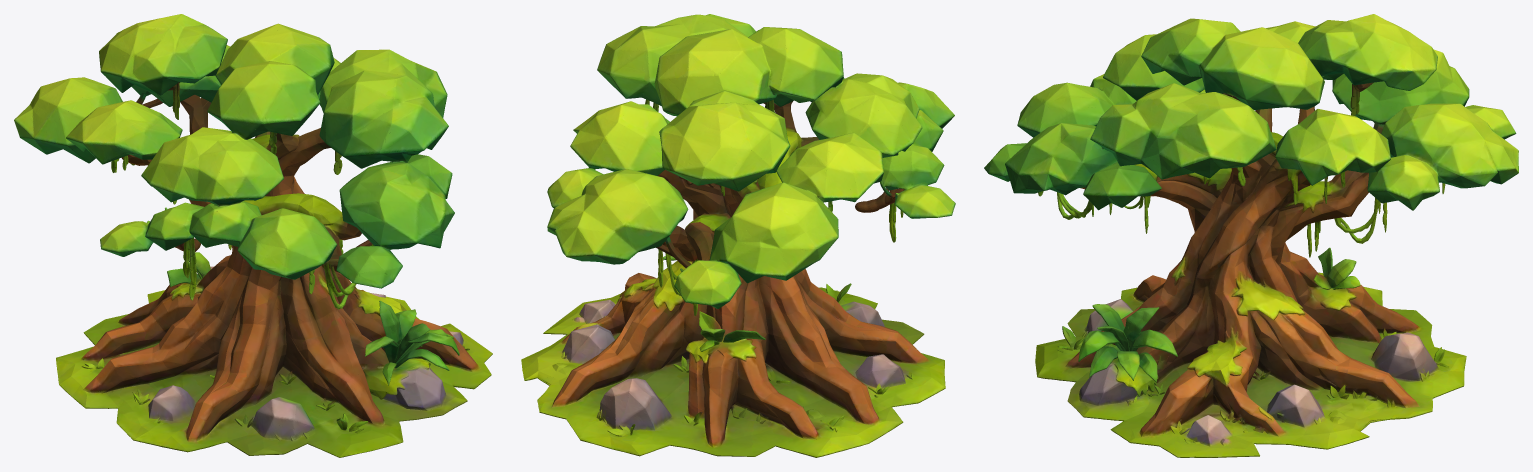
The model's file is KeepSakeHugeTreeGreen.glb.
3 views of the same model, side by side, from view 1: azimuth 30°, elevation 25°; view 2: azimuth 150°, elevation 25°; view 3: azimuth 270°, elevation 25° (orthographic).
Parts seen in each view (by area): view 1: tripo_node_c57631a2-b1bf-4de6-94ce-7582cd0a57db; view 2: tripo_node_c57631a2-b1bf-4de6-94ce-7582cd0a57db; view 3: tripo_node_c57631a2-b1bf-4de6-94ce-7582cd0a57db.
Boxes of the visible parts, x1,y1,x2,y2 form: tripo_node_c57631a2-b1bf-4de6-94ce-7582cd0a57db: (14,14,492,457); tripo_node_c57631a2-b1bf-4de6-94ce-7582cd0a57db: (521,14,955,457); tripo_node_c57631a2-b1bf-4de6-94ce-7582cd0a57db: (984,14,1518,457).
Size of the model in its own units: 0.8038 by 0.6761 by 0.9796.
Materials: 1 (1 with a texture image).
